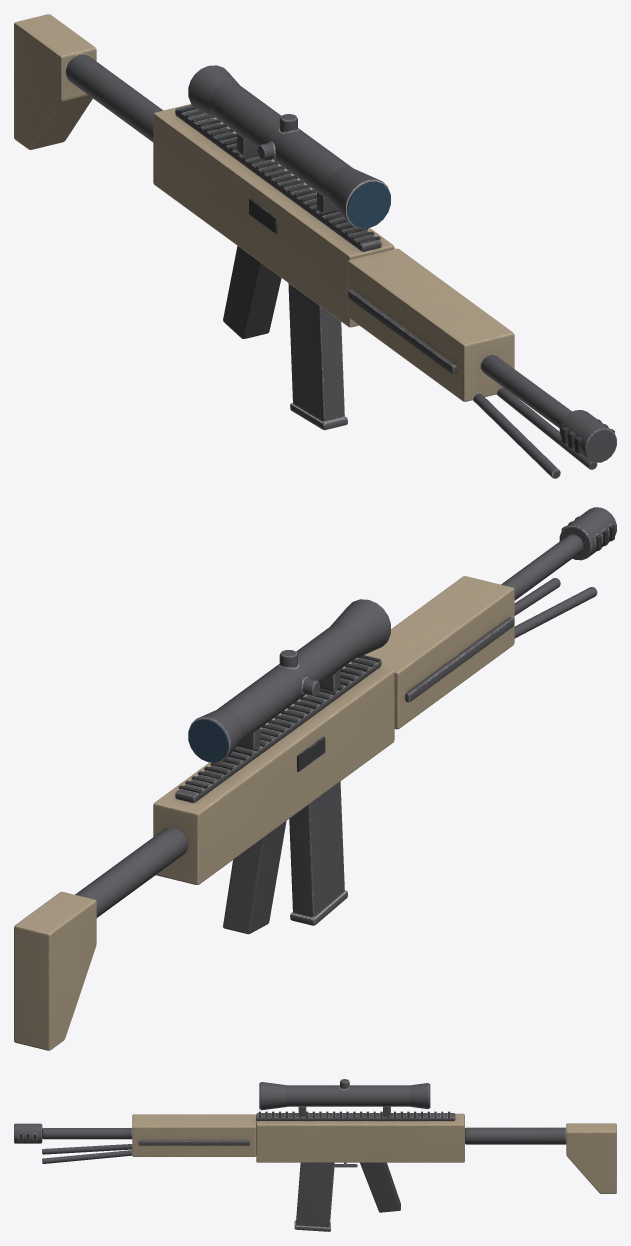
The model's file is scar20.fbx.
3 renders of one model, top to bottom at view 1: azimuth 30°, elevation 25°; view 2: azimuth 150°, elevation 25°; view 3: azimuth 270°, elevation 25°, orthographic. The views are drawn at different scales.
Visible parts, largest first — view 1: scar20; view 2: scar20; view 3: scar20.
Part boxes in pixels (x1,y1,x2,y2): scar20: [14, 14, 616, 478]; scar20: [14, 507, 616, 1050]; scar20: [14, 1079, 616, 1231].
Bounding box in the file's own units: 0.068 × 0.2909 × 1.07.
